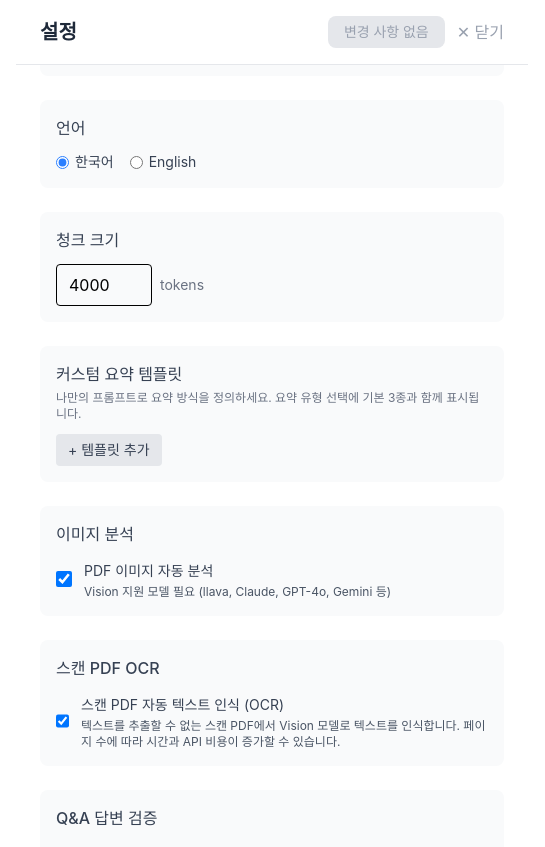
SettingsPanel — 커스텀 템플릿 검증 › 이름만 채운 불완전 템플릿 저장 시 차단(templateIncomplete) + 저장 성공 표시 안 뜸
(page scrolled)
Click the button "+ 템플릿 추가": {"x": 109, "y": 450} 56,434 -> 162,466
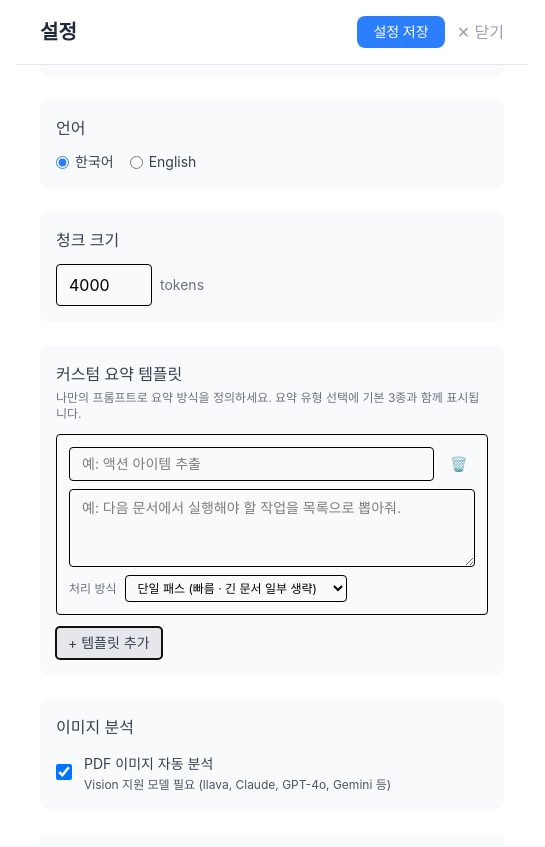
In the field named "템플릿 이름": {"x": 252, "y": 464} 69,447 -> 434,481, type "액션 아이템"
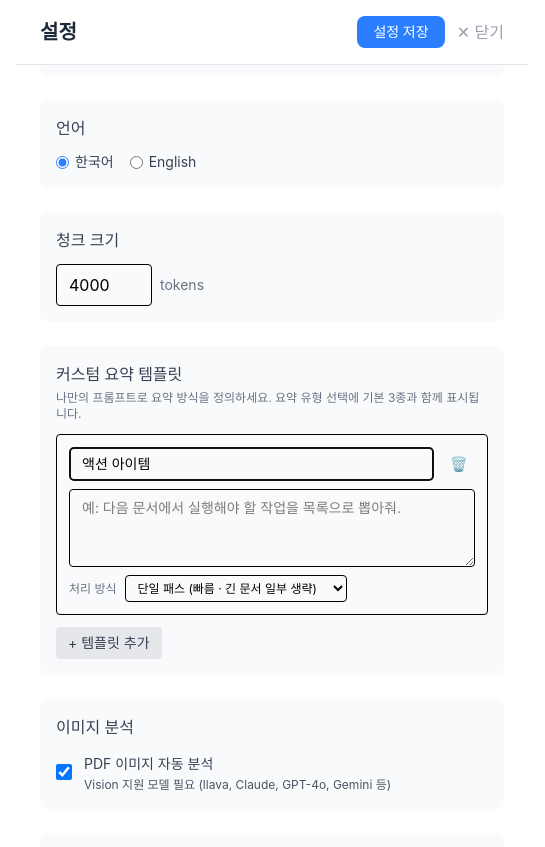
Note: 프롬프트는 공란으로 둔 채 저장
Click the button "설정 저장": {"x": 401, "y": 32} 357,16 -> 445,48
(page scrolled)
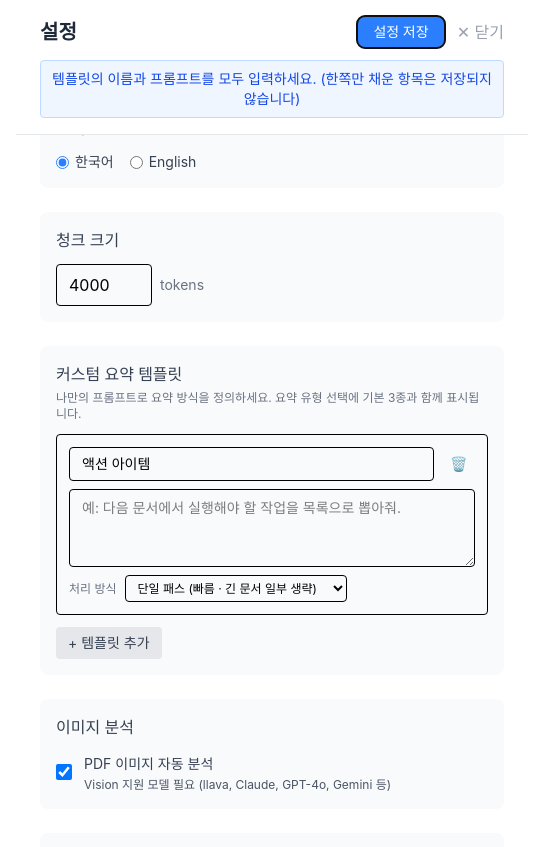
Expected: the text "템플릿의 이름과 프롬프트를 모두 입력하세요. (한쪽만 채운 항목은 저장되지 않습니다)" is shown, 40,60 -> 504,118
